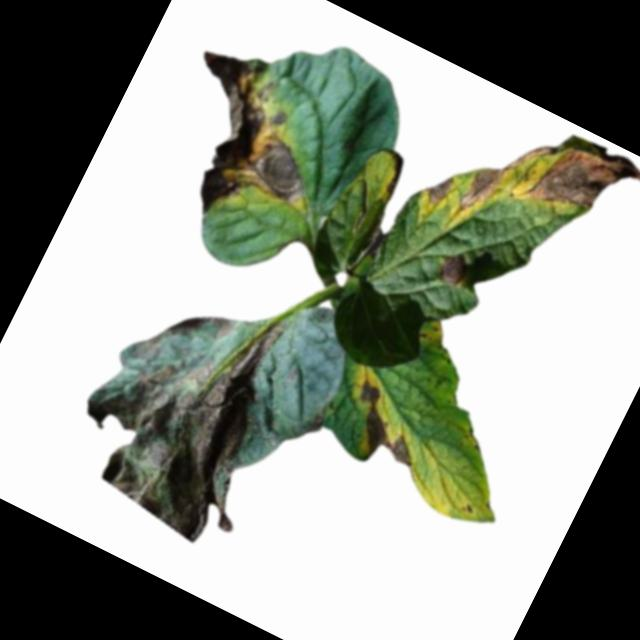Early_blight: (49, 255, 327, 556), (136, 34, 347, 249), (452, 100, 640, 281), (332, 377, 437, 479), (434, 247, 472, 288), (425, 169, 456, 205), (307, 407, 330, 435)
